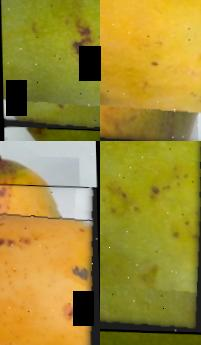Ripe: (0, 179, 100, 345), (100, 0, 201, 141)
Unripe: (100, 141, 201, 336), (0, 0, 100, 132)
